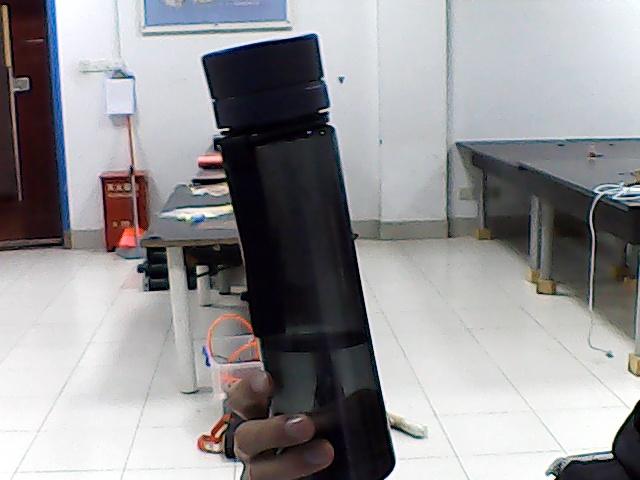cup: (242, 69, 336, 373)
